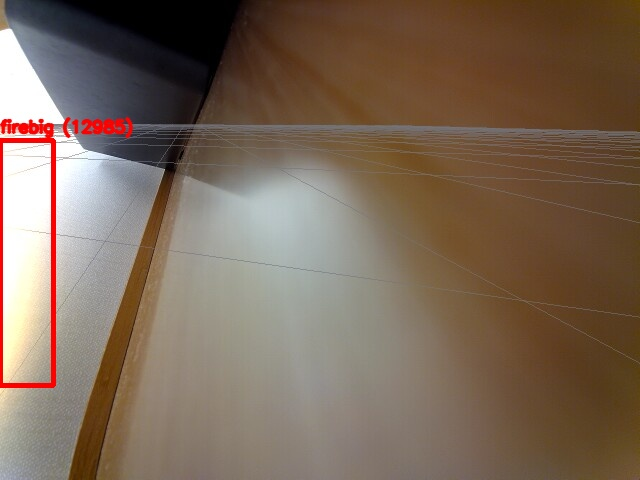firebig: (0, 140, 53, 385)
